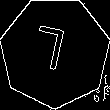L_S: (35, 24, 75, 81)
